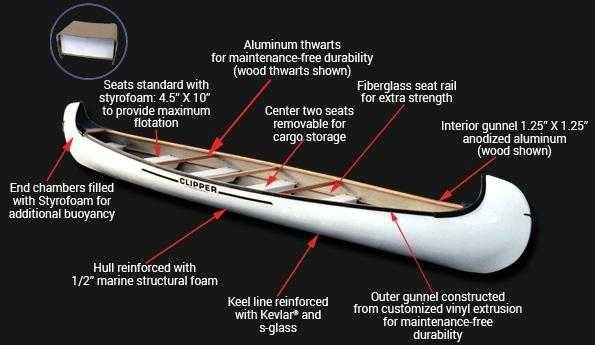kayak: (59, 102, 537, 282)
